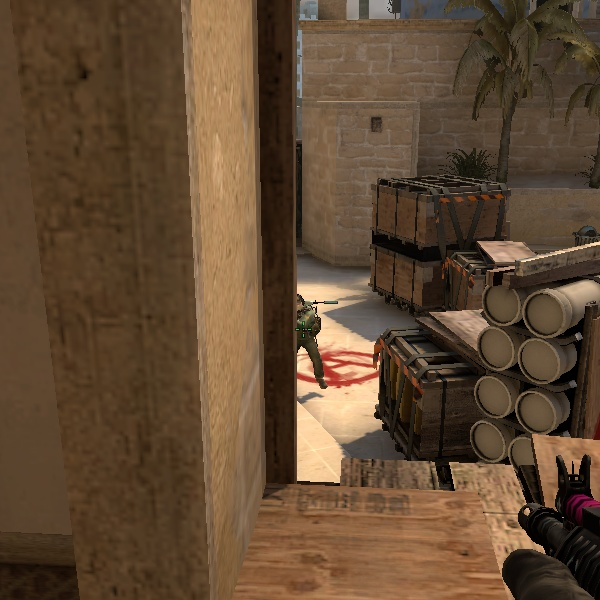ct_body: (295, 292, 335, 395)
ct_head: (294, 292, 309, 314)
